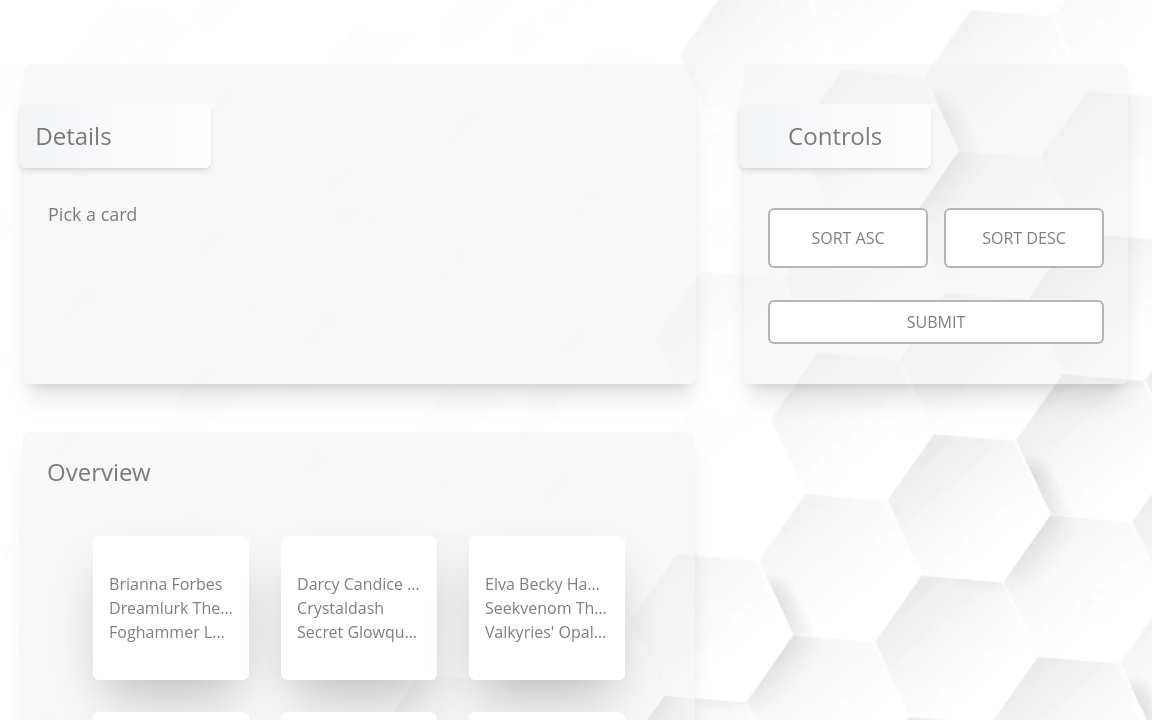
Test case: Check Location › Check Sort desc
Click the button with id "Desc": (1024, 238) [944, 208, 1104, 268]
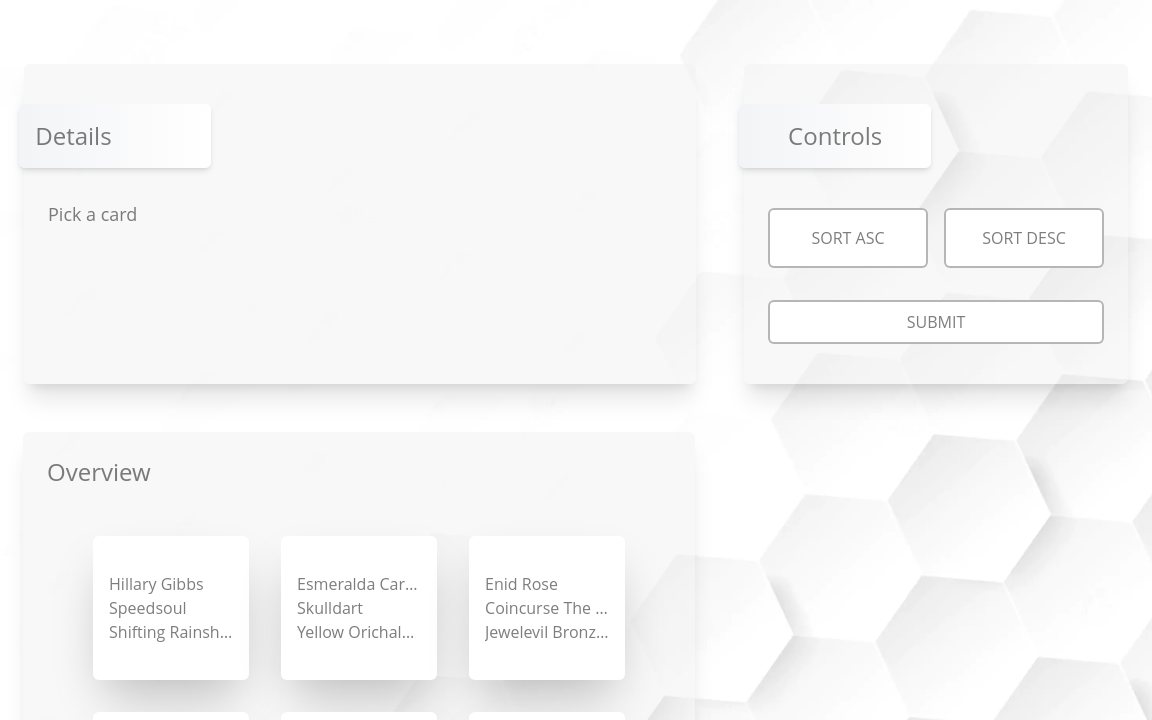
expect the element showing "Hillary Gibbs Speedsoul Shifting Rainshadow Iron" is shown: met, box [93, 536, 249, 680]
